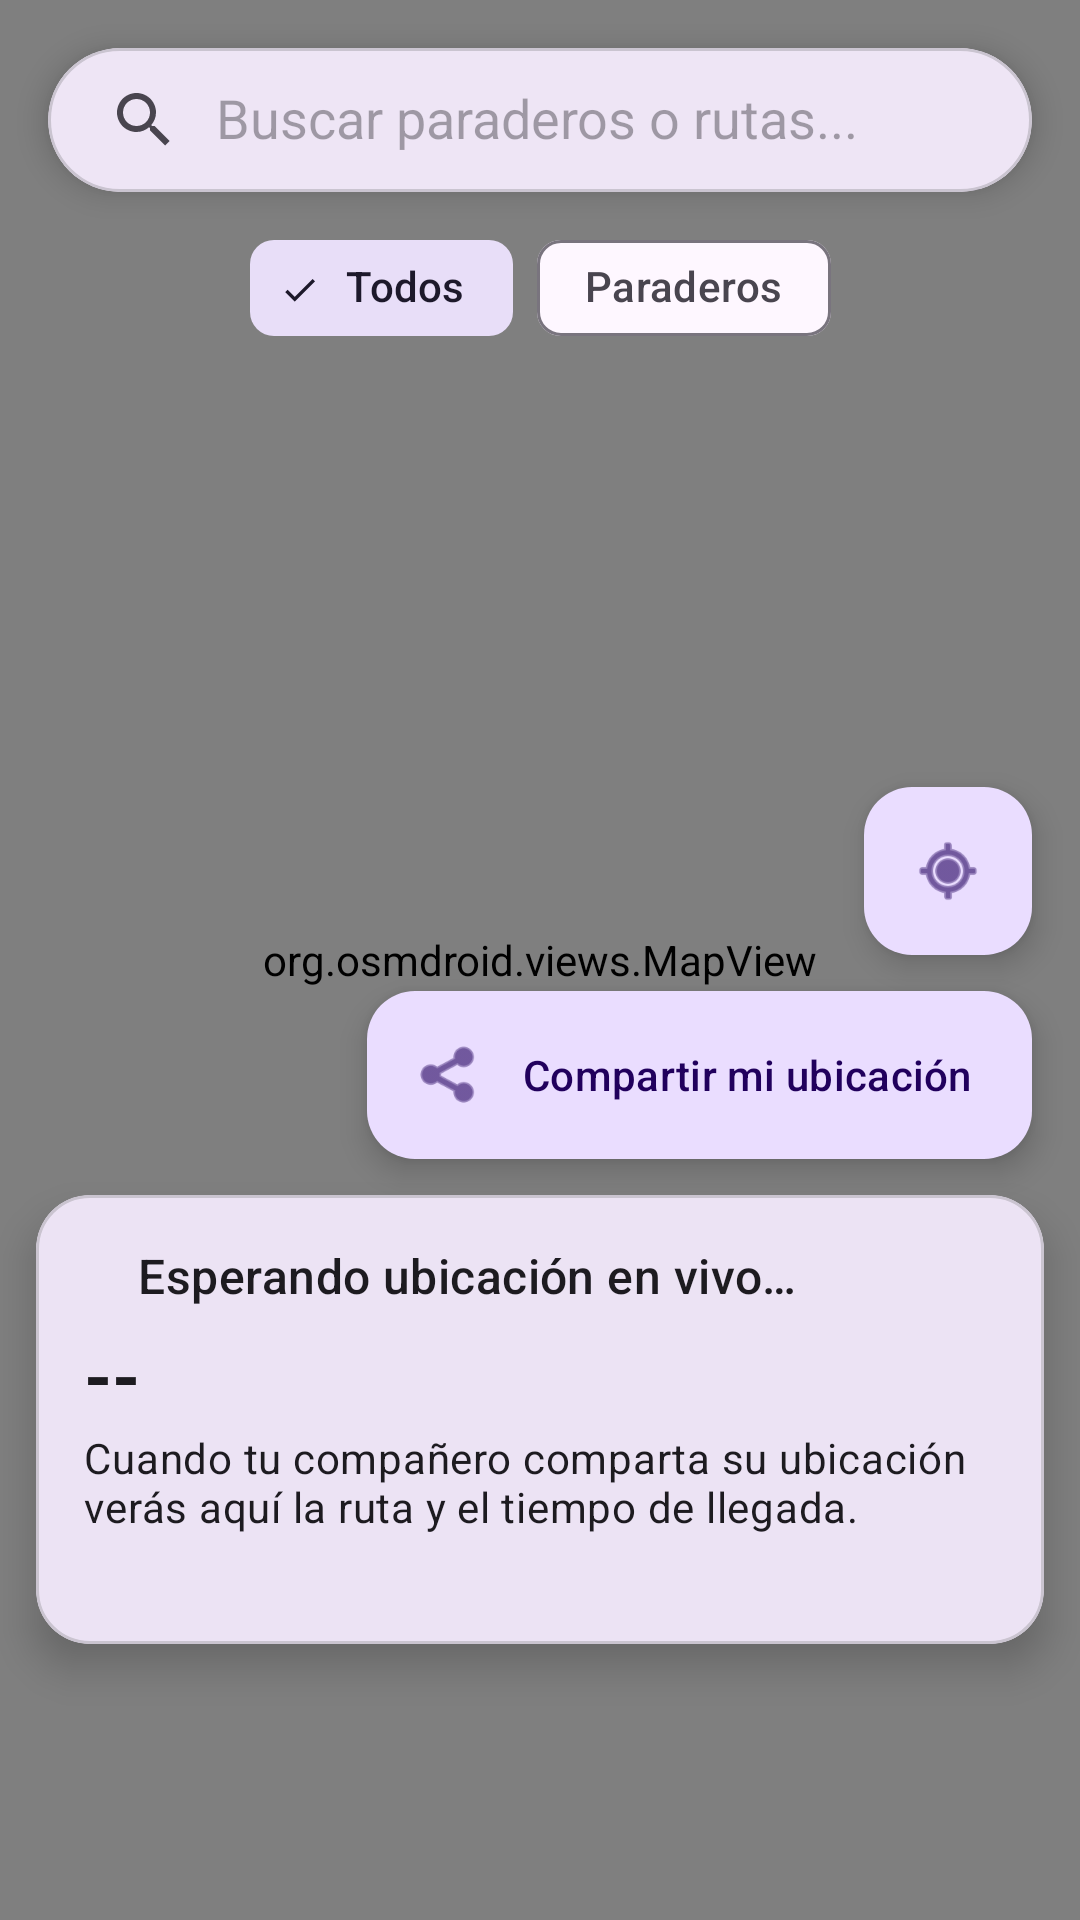

Named icons in this screenshot (1080px×1920px) and their bounding boxes, (x1,y1,x2,y2):
Centrar en mi ubicación: (864,787,1032,955)
